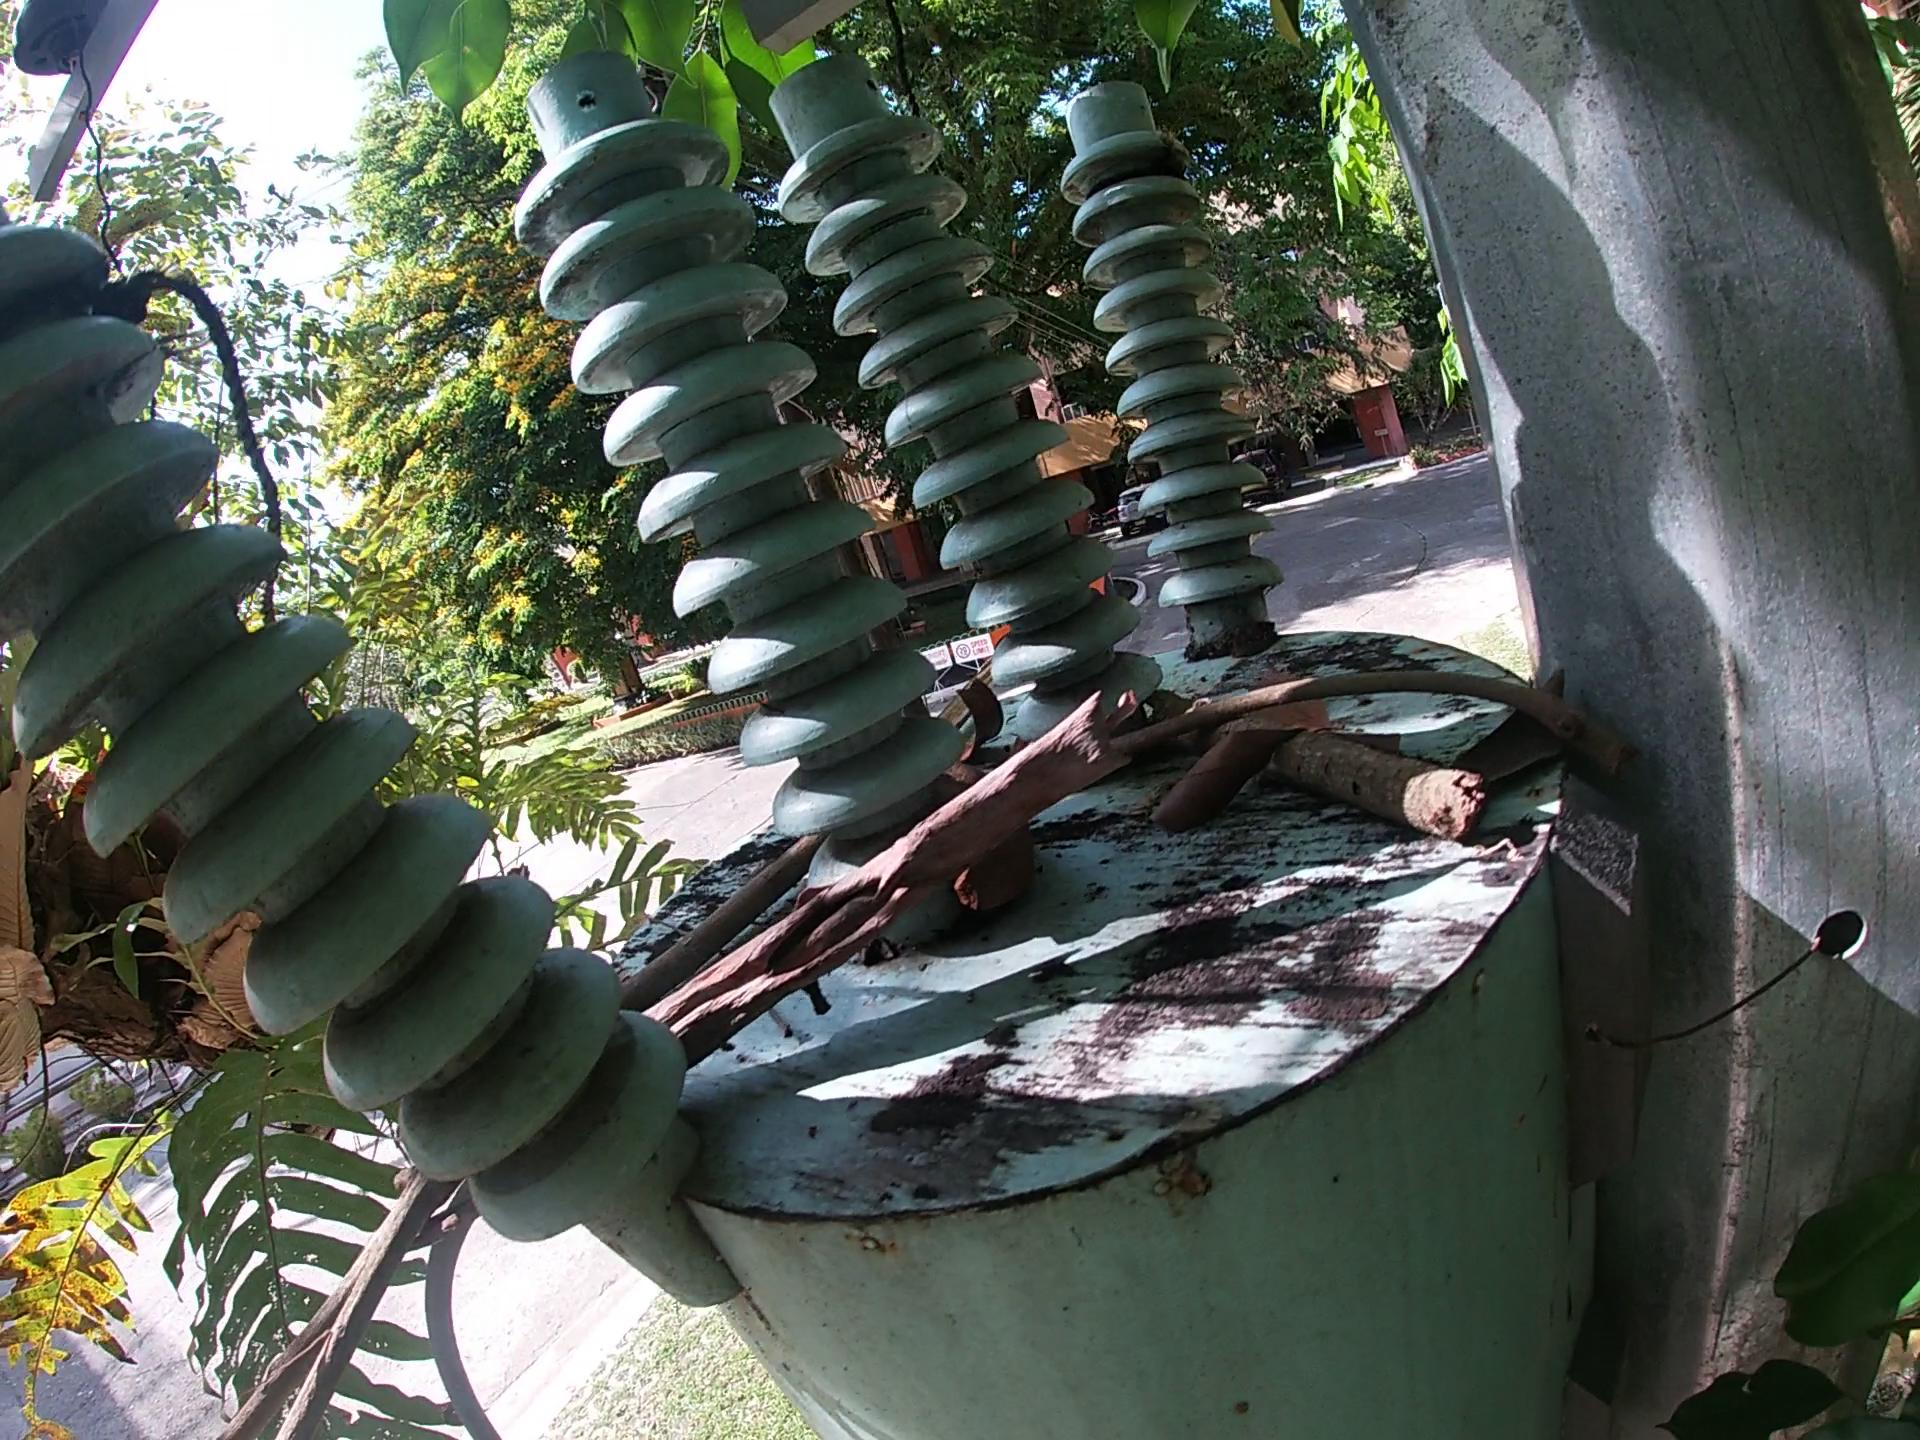leaf: (1132, 718, 1309, 839), (1438, 658, 1586, 799)
mahogany fruit: (934, 756, 1043, 918), (948, 675, 1011, 765)
tree branch: (639, 685, 1128, 1068), (1117, 656, 1648, 791), (228, 1165, 451, 1438), (615, 829, 828, 1013), (1187, 715, 1495, 839)
